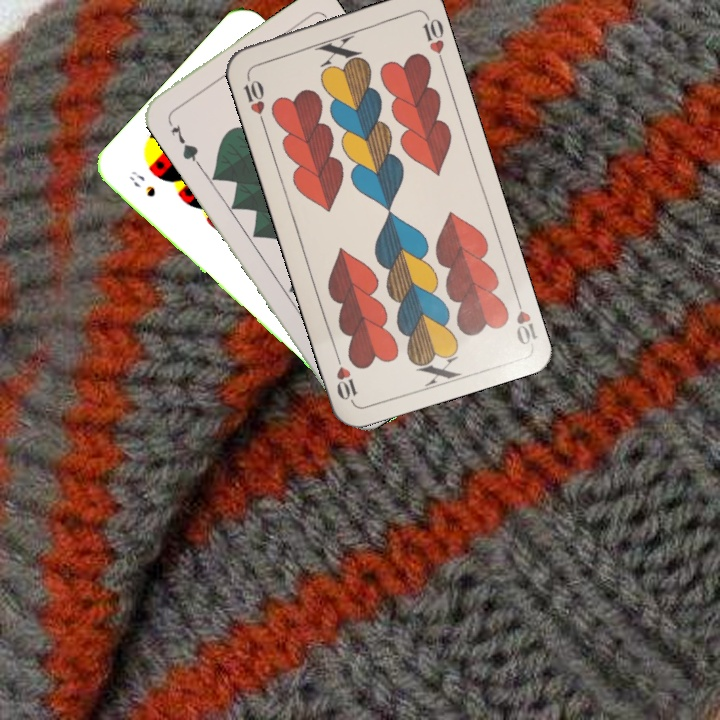G7: (167, 120, 202, 167)
H10: (509, 289, 540, 348), (240, 69, 268, 127)
S8: (125, 166, 158, 200)
